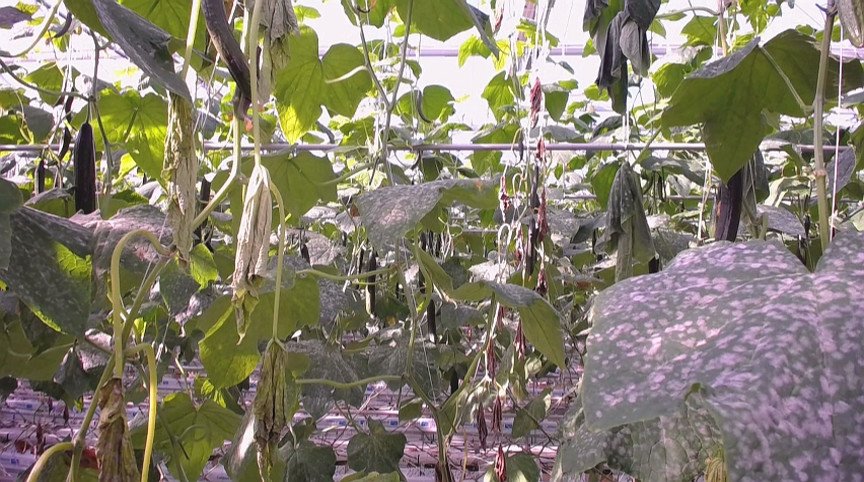cucumber: (202, 1, 253, 99), (74, 123, 97, 216), (716, 171, 743, 241), (367, 254, 378, 319)
